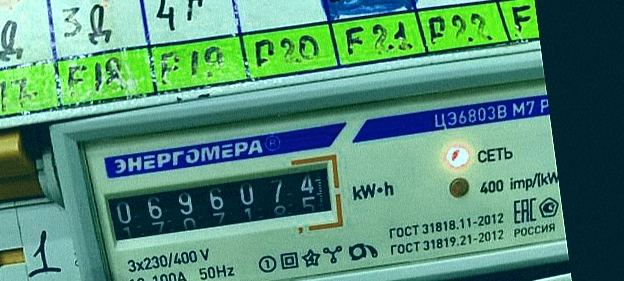0: (110, 198, 132, 225), (236, 179, 255, 206)
4: (296, 169, 315, 195)
5: (299, 193, 317, 213)
6: (143, 192, 165, 221), (204, 185, 224, 211)
7: (265, 175, 286, 204)
9: (173, 189, 195, 216)
screen: (90, 148, 350, 261)
